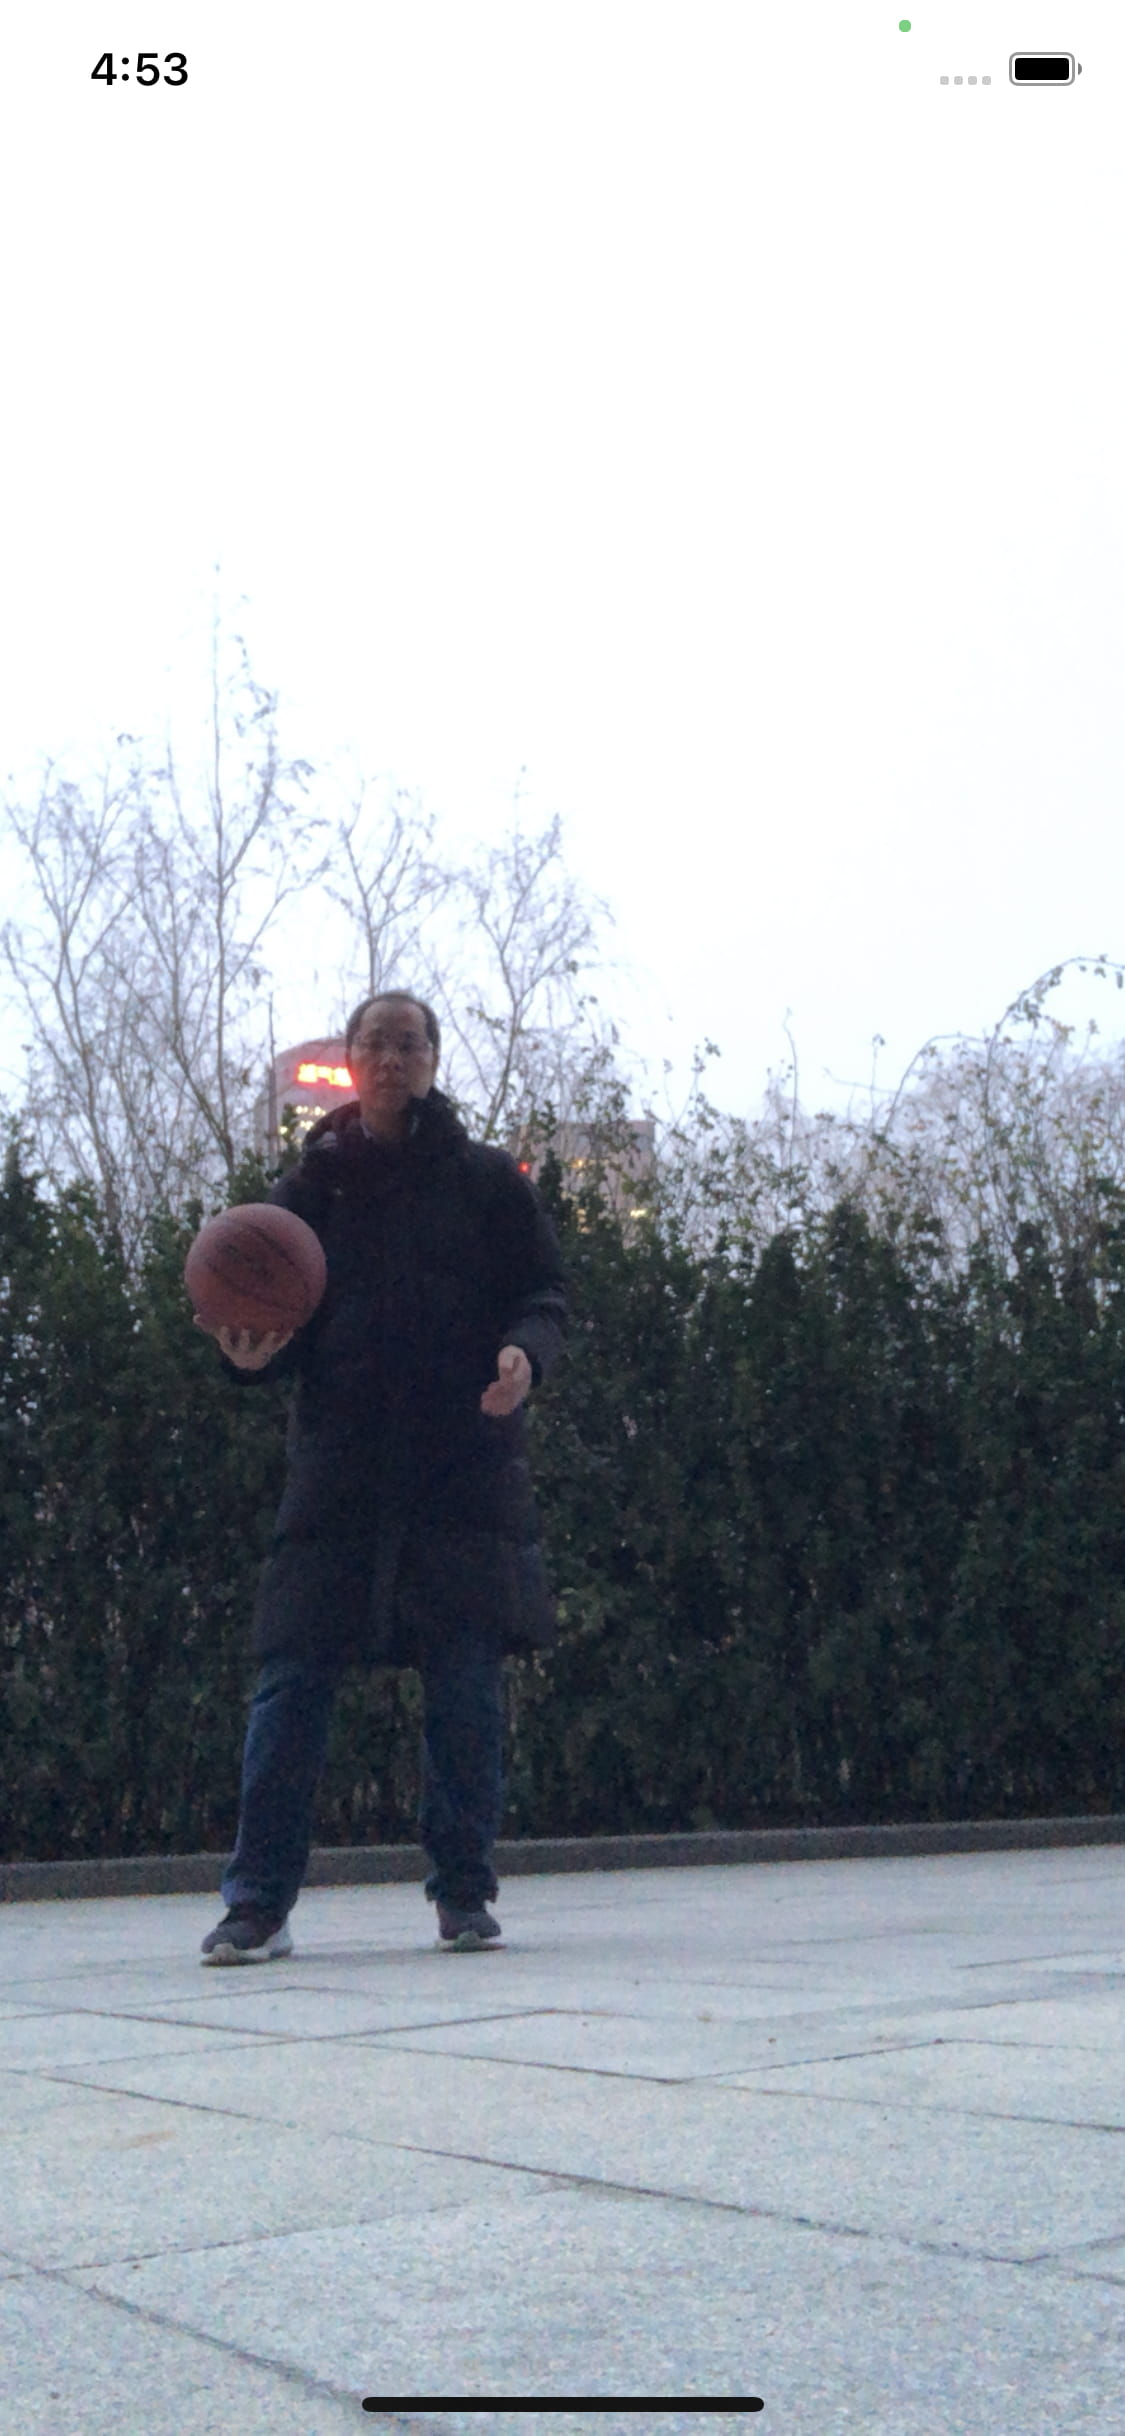ball: (188, 1199, 326, 1348)
